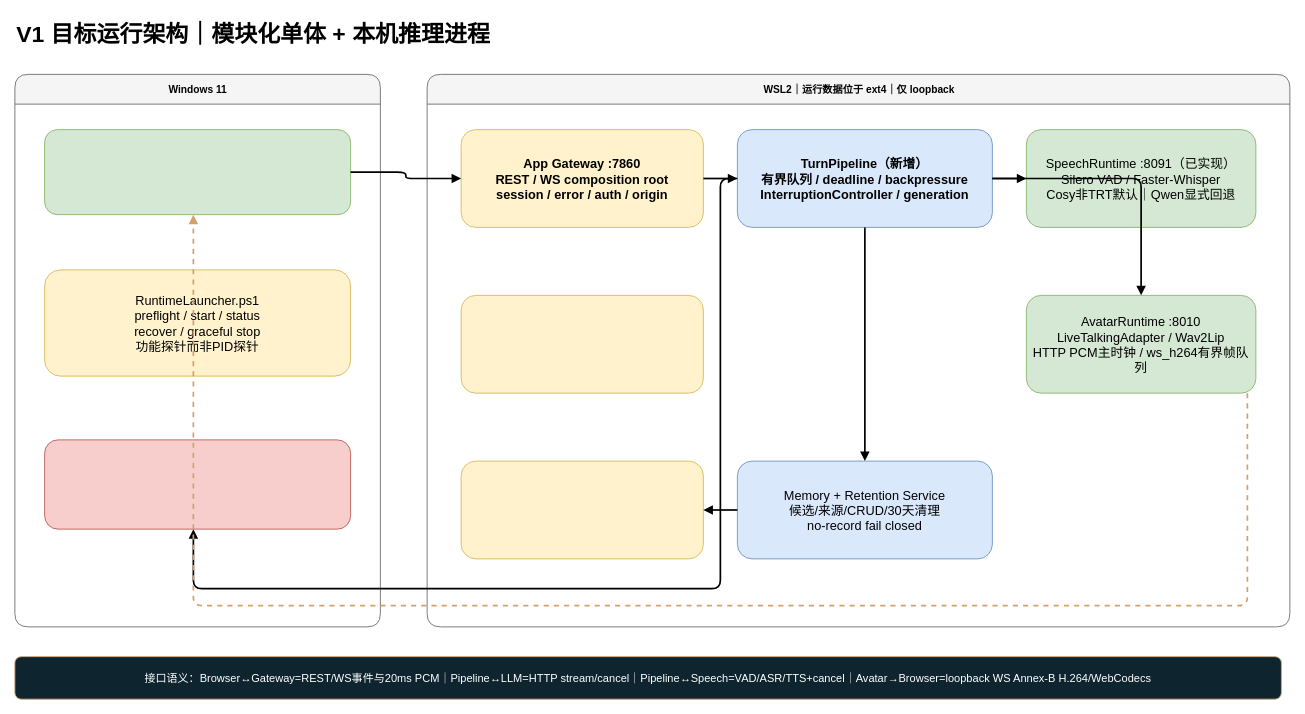
The diagram is 1305 pixels wide and 714 high, and some of its shapes have lost their labels. Each missing label, with the centre of its shape:
Health + Telemetry 真实 probe / trace / latency queue / VRAM / RAM / FPS: the point at 581,344
llama-server :8090 Qwen3-14B Q4_K_M stream + cancel + health: the point at 197,484
SQLite WAL + FTS5 + sqlite-vec 同事务删除｜AssetStore 原始麦克风音频永不落盘: the point at 581,509
已验收 Browser UI REST / WS / WebCodecs canvas 仅后端接线与回归: the point at 197,172
